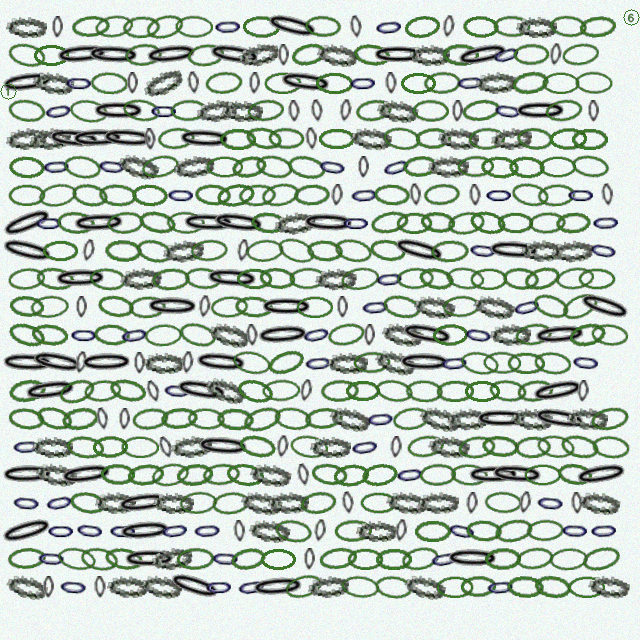chain: (0, 203, 57, 243), (575, 288, 634, 326), (165, 568, 224, 605), (263, 9, 321, 44), (390, 233, 448, 268), (0, 513, 56, 549), (0, 234, 56, 268), (454, 39, 512, 71), (529, 375, 587, 407), (398, 319, 456, 350), (28, 347, 86, 378), (173, 375, 230, 406), (573, 459, 630, 490), (140, 64, 186, 102), (206, 40, 263, 70), (531, 404, 588, 434), (277, 68, 334, 97), (22, 376, 79, 405), (58, 460, 115, 489), (0, 68, 56, 97), (210, 209, 267, 237), (115, 489, 172, 517), (143, 41, 200, 68), (54, 41, 110, 68), (193, 349, 249, 376), (203, 374, 248, 407), (559, 289, 601, 324), (46, 126, 102, 152), (255, 322, 311, 348), (532, 322, 588, 348), (117, 518, 173, 544), (250, 574, 306, 600), (236, 38, 281, 70), (275, 234, 318, 267), (100, 126, 156, 151), (486, 238, 542, 263), (204, 266, 260, 291), (195, 434, 251, 459), (489, 462, 545, 487), (116, 151, 161, 182), (373, 347, 418, 378), (530, 290, 572, 323), (265, 346, 307, 379), (207, 320, 252, 350), (71, 211, 127, 235), (56, 375, 98, 407), (241, 403, 283, 435), (86, 43, 141, 67), (177, 127, 232, 151), (181, 211, 236, 235), (301, 211, 356, 235), (0, 351, 55, 375), (328, 404, 372, 434), (418, 404, 462, 434), (5, 572, 49, 602), (403, 572, 447, 602), (6, 319, 47, 351), (144, 11, 186, 42), (580, 543, 622, 574), (195, 96, 239, 125), (172, 152, 216, 181), (150, 544, 194, 573), (522, 263, 563, 294), (177, 319, 218, 350), (34, 403, 75, 434), (283, 571, 324, 602), (70, 127, 125, 150), (53, 267, 108, 290), (145, 295, 200, 318), (79, 351, 134, 374), (397, 351, 452, 374), (0, 463, 55, 486), (445, 547, 500, 570), (6, 40, 48, 70), (286, 152, 328, 182), (273, 209, 317, 237), (472, 293, 516, 321), (134, 236, 175, 266), (235, 376, 276, 406), (371, 44, 426, 66), (91, 100, 146, 122), (513, 100, 568, 122), (259, 296, 314, 318), (474, 408, 529, 430), (466, 464, 521, 486), (122, 548, 177, 570), (162, 237, 205, 265), (240, 489, 283, 517), (140, 152, 181, 181), (260, 180, 301, 209), (369, 208, 410, 237), (333, 236, 374, 265), (381, 292, 422, 321), (326, 320, 367, 349), (231, 348, 272, 377), (107, 376, 148, 405), (589, 404, 630, 433), (559, 432, 600, 461), (150, 460, 191, 489), (493, 516, 534, 545), (5, 125, 48, 152), (29, 125, 72, 152), (490, 125, 533, 152), (381, 321, 424, 348), (170, 433, 213, 460), (35, 461, 78, 488), (140, 573, 183, 600), (307, 573, 350, 600), (289, 40, 329, 69), (244, 124, 284, 153), (254, 152, 294, 181), (510, 180, 550, 209), (137, 208, 177, 237), (468, 208, 508, 237), (567, 320, 607, 349), (237, 432, 277, 461), (400, 544, 440, 573), (68, 97, 109, 125), (62, 153, 103, 181), (37, 181, 78, 209), (215, 181, 256, 209), (459, 349, 500, 377), (273, 517, 314, 545), (56, 545, 97, 573), (79, 545, 120, 573), (103, 545, 144, 573), (70, 181, 110, 209), (446, 209, 486, 237), (374, 377, 414, 405), (68, 489, 108, 517), (316, 42, 359, 68), (32, 70, 75, 96), (376, 98, 419, 124), (551, 238, 594, 264), (413, 294, 456, 320), (249, 462, 292, 488), (578, 490, 621, 516), (248, 518, 291, 544), (121, 97, 162, 124), (570, 153, 611, 180), (230, 153, 269, 181), (417, 265, 456, 293), (229, 545, 268, 573), (94, 13, 134, 40), (510, 69, 550, 96), (7, 97, 47, 124), (354, 97, 394, 124), (461, 97, 501, 124), (544, 97, 584, 124), (382, 125, 422, 152), (368, 237, 408, 264), (35, 265, 75, 292), (340, 265, 380, 292), (445, 265, 485, 292), (555, 265, 595, 292), (96, 293, 136, 320), (7, 377, 47, 404), (60, 405, 100, 432), (273, 405, 313, 432), (391, 405, 431, 432), (289, 433, 329, 460), (536, 433, 576, 460), (225, 461, 265, 488), (360, 461, 400, 488), (318, 545, 358, 572), (515, 545, 555, 572), (403, 13, 442, 40), (561, 41, 600, 68), (514, 321, 553, 348), (406, 433, 445, 460), (310, 461, 349, 488), (299, 489, 338, 516), (533, 573, 572, 600), (475, 70, 517, 95), (350, 126, 392, 151), (379, 152, 414, 182), (120, 266, 162, 291), (428, 434, 470, 459), (386, 490, 428, 515), (588, 574, 630, 599), (88, 266, 128, 292), (488, 378, 528, 404), (65, 434, 105, 460), (457, 434, 497, 460), (591, 434, 631, 460), (340, 574, 380, 600), (556, 461, 594, 488), (489, 40, 524, 69), (578, 14, 617, 40), (186, 42, 225, 68), (352, 42, 391, 68), (7, 266, 46, 292), (30, 322, 69, 348), (590, 322, 629, 348), (533, 350, 572, 376), (83, 378, 122, 404), (516, 378, 555, 404), (7, 406, 46, 432), (131, 406, 170, 432), (126, 462, 165, 488), (332, 462, 371, 488), (211, 490, 250, 516), (374, 574, 413, 600), (315, 267, 357, 291), (447, 407, 489, 431), (511, 407, 553, 431), (204, 70, 244, 95), (245, 238, 285, 263), (71, 14, 110, 39), (124, 42, 163, 67), (246, 98, 285, 123), (56, 210, 95, 235), (258, 266, 297, 291), (30, 294, 69, 319), (304, 406, 343, 431), (175, 462, 214, 487), (202, 462, 241, 487), (179, 490, 218, 515), (7, 546, 46, 571), (510, 293, 544, 321), (445, 517, 479, 545), (549, 14, 587, 39), (157, 126, 195, 151), (516, 126, 554, 151), (423, 182, 461, 207), (106, 210, 144, 235), (419, 210, 457, 235), (190, 238, 228, 263), (184, 266, 222, 291), (502, 266, 540, 291), (8, 294, 46, 319), (160, 406, 198, 431), (481, 434, 519, 459), (438, 127, 479, 150), (428, 155, 469, 178), (521, 239, 562, 262), (490, 323, 531, 346), (567, 407, 608, 430), (95, 491, 136, 514), (268, 491, 309, 514), (418, 491, 459, 514), (107, 575, 148, 598), (122, 15, 161, 39), (90, 71, 129, 95), (480, 155, 519, 179), (98, 183, 137, 207), (238, 183, 277, 207), (537, 183, 576, 207), (430, 239, 469, 263), (151, 267, 190, 291), (210, 295, 249, 319), (234, 295, 273, 319), (144, 323, 183, 347), (549, 547, 588, 571), (402, 154, 439, 179), (8, 155, 46, 179), (508, 155, 546, 179), (131, 183, 169, 207), (194, 183, 232, 207), (293, 183, 331, 207), (373, 183, 411, 207), (528, 211, 566, 235), (306, 239, 344, 263), (128, 295, 166, 319), (93, 323, 131, 347), (405, 379, 443, 403), (187, 407, 225, 431), (216, 407, 254, 431), (514, 435, 552, 459), (450, 463, 488, 487), (465, 519, 503, 543), (506, 574, 544, 598), (6, 16, 47, 38), (516, 16, 557, 38), (409, 44, 450, 66), (222, 100, 263, 122), (143, 352, 184, 374), (327, 352, 368, 374), (32, 436, 73, 458), (310, 436, 351, 458), (153, 492, 194, 514), (356, 520, 397, 542), (423, 71, 462, 94), (166, 211, 205, 234), (320, 379, 359, 402), (587, 237, 620, 264), (300, 321, 333, 348), (43, 489, 76, 516), (250, 211, 287, 235), (555, 211, 592, 235), (175, 15, 213, 38), (242, 15, 280, 38), (304, 15, 342, 38), (462, 15, 500, 38), (493, 15, 531, 38), (575, 71, 613, 94), (549, 127, 587, 150), (104, 239, 142, 262), (396, 267, 434, 290), (442, 295, 480, 318), (353, 351, 391, 374), (483, 351, 521, 374), (262, 379, 300, 402), (484, 491, 522, 514), (334, 519, 372, 542), (526, 519, 564, 542), (176, 547, 214, 570), (42, 98, 75, 124), (316, 154, 349, 180), (118, 322, 151, 348), (462, 322, 495, 348), (428, 546, 461, 572), (235, 574, 268, 600), (442, 43, 479, 66), (513, 43, 550, 66), (170, 99, 207, 122), (412, 99, 449, 122), (268, 127, 305, 150), (415, 127, 452, 150), (468, 127, 505, 150), (457, 155, 494, 178), (289, 267, 326, 290), (432, 323, 469, 346), (92, 435, 129, 458), (419, 463, 456, 486), (484, 547, 521, 570), (460, 575, 497, 598), (264, 72, 302, 94), (315, 72, 353, 94), (542, 72, 580, 94), (8, 184, 46, 206), (578, 268, 616, 290), (507, 352, 545, 374), (436, 380, 474, 402), (121, 436, 159, 458), (436, 576, 474, 598), (492, 98, 524, 124), (349, 434, 381, 460), (100, 463, 136, 486), (33, 44, 70, 66), (400, 72, 437, 94), (219, 128, 256, 150), (318, 128, 355, 150), (571, 128, 608, 150), (206, 156, 243, 178), (539, 156, 576, 178), (396, 212, 433, 234), (497, 212, 534, 234), (42, 240, 79, 262), (236, 268, 273, 290), (470, 268, 507, 290), (296, 296, 333, 318), (464, 380, 501, 402), (524, 464, 561, 486), (360, 492, 397, 514), (414, 520, 451, 542), (260, 548, 297, 570), (347, 548, 384, 570), (375, 548, 412, 570), (568, 576, 605, 598), (96, 154, 128, 179), (467, 238, 499, 263), (570, 350, 602, 375), (394, 462, 426, 487), (74, 518, 106, 543), (159, 518, 191, 543), (345, 380, 381, 402), (373, 15, 405, 39), (349, 183, 380, 207), (374, 267, 405, 291), (360, 295, 391, 319), (303, 351, 334, 375), (439, 351, 470, 375), (365, 407, 396, 431), (11, 491, 42, 515), (535, 491, 566, 515), (58, 575, 89, 599), (485, 575, 516, 599), (455, 71, 486, 94), (41, 155, 72, 178), (162, 379, 193, 402), (11, 435, 42, 458), (192, 519, 223, 542), (36, 547, 67, 570), (210, 547, 241, 570), (213, 15, 243, 38), (591, 211, 621, 234), (560, 519, 590, 542), (589, 519, 619, 542), (64, 72, 94, 94), (348, 72, 378, 94), (149, 100, 179, 122), (166, 184, 196, 206), (484, 184, 514, 206), (566, 184, 596, 206), (34, 212, 64, 234), (341, 212, 371, 234), (69, 324, 99, 346), (46, 520, 76, 542), (108, 520, 138, 542), (204, 576, 234, 598), (157, 435, 175, 459), (145, 379, 162, 403), (81, 239, 96, 262), (95, 407, 110, 430), (296, 463, 311, 486), (349, 15, 363, 38), (310, 99, 324, 122), (236, 239, 250, 262), (74, 351, 88, 374), (299, 379, 313, 402), (341, 491, 355, 514), (518, 491, 532, 514), (313, 519, 327, 542), (394, 519, 408, 542), (442, 15, 455, 38), (549, 43, 562, 66), (187, 71, 200, 94), (339, 99, 352, 122), (305, 127, 318, 150), (409, 183, 422, 206), (601, 183, 614, 206), (198, 295, 211, 318), (181, 351, 194, 374), (276, 435, 289, 458), (233, 520, 246, 542), (385, 72, 397, 94), (288, 100, 300, 122), (144, 128, 156, 150), (331, 184, 343, 206), (469, 184, 481, 206), (246, 324, 258, 346), (577, 380, 589, 402), (390, 436, 402, 458), (466, 492, 478, 514), (571, 492, 583, 514), (94, 576, 106, 598), (52, 16, 63, 38), (278, 44, 289, 66), (127, 72, 138, 94), (249, 72, 260, 94), (452, 100, 463, 122), (588, 100, 599, 122), (358, 156, 369, 178), (76, 296, 87, 318), (337, 296, 348, 318), (364, 324, 375, 346), (134, 352, 145, 374), (119, 408, 130, 430), (304, 548, 315, 570), (43, 576, 54, 598)
noise: (621, 7, 640, 27), (0, 81, 18, 101)
